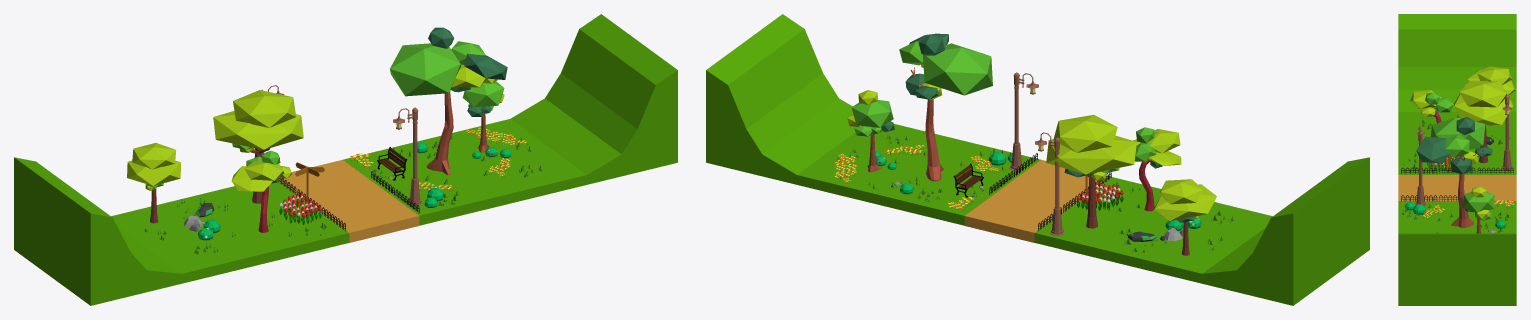
Rendered from road2.fbx.
3 views of the same model, side by side, from view 1: azimuth 30°, elevation 25°; view 2: azimuth 150°, elevation 25°; view 3: azimuth 270°, elevation 25° (orthographic). The views are drawn at different scales.
Parts seen in each view (by area): view 1: Circle; view 2: Circle; view 3: Circle.
Boxes of the visible parts, x1,y1,x2,y2 form: Circle: (14,14,677,305); Circle: (706,14,1369,305); Circle: (1398,14,1516,305).
Size of the model in its own units: 16759 by 4092 by 3793.
